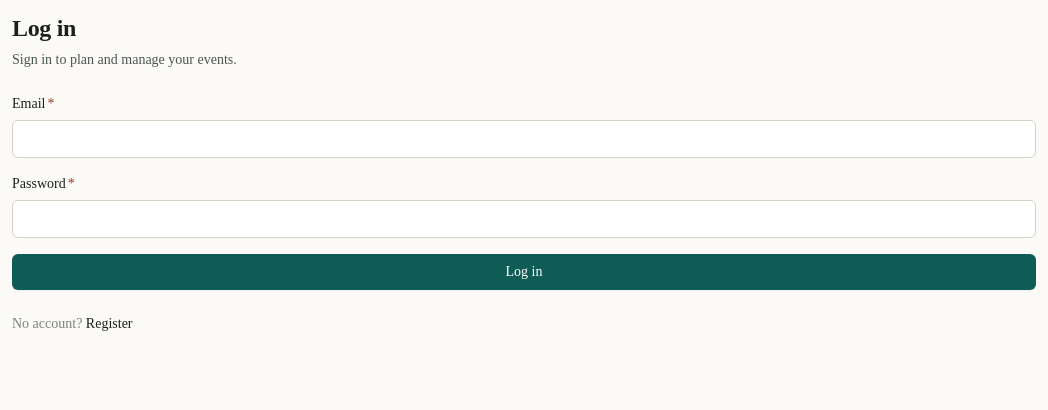
Test: Login page › [SPM-21][AC2] tells a deactivated user to contact an administrator
Step 1. Type "rachel@example.com" into the field labelled "Email*" → (524,139), box [12, 120, 1036, 158]
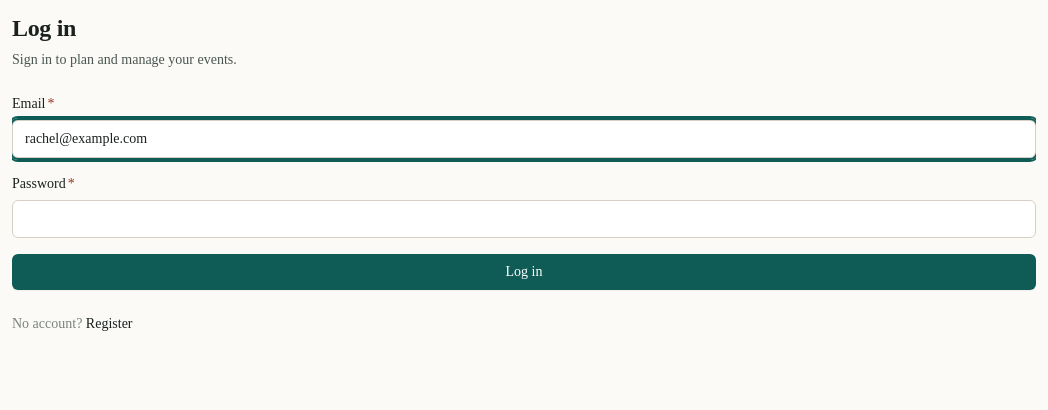
Step 2. Type "long-enough-pw" into the password field labelled "Password*" → (524,219), box [12, 200, 1036, 238]
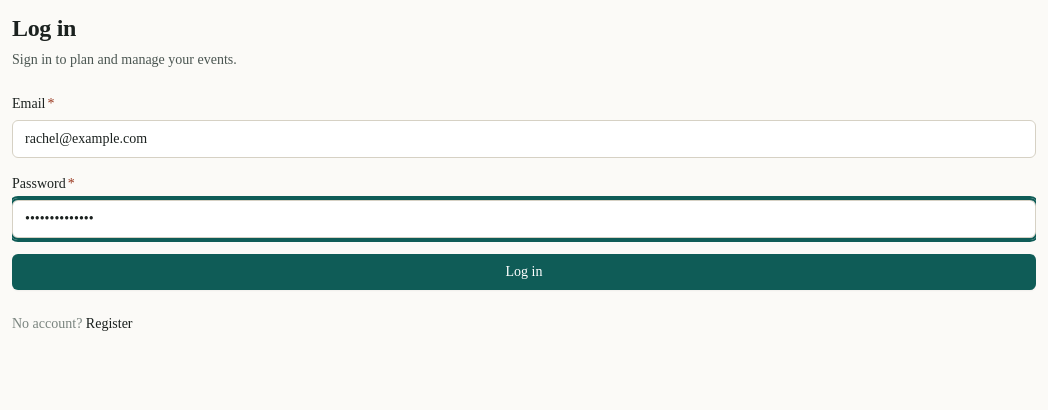
Step 3. Click the button "Log in" → (524,272), box [12, 254, 1036, 290]
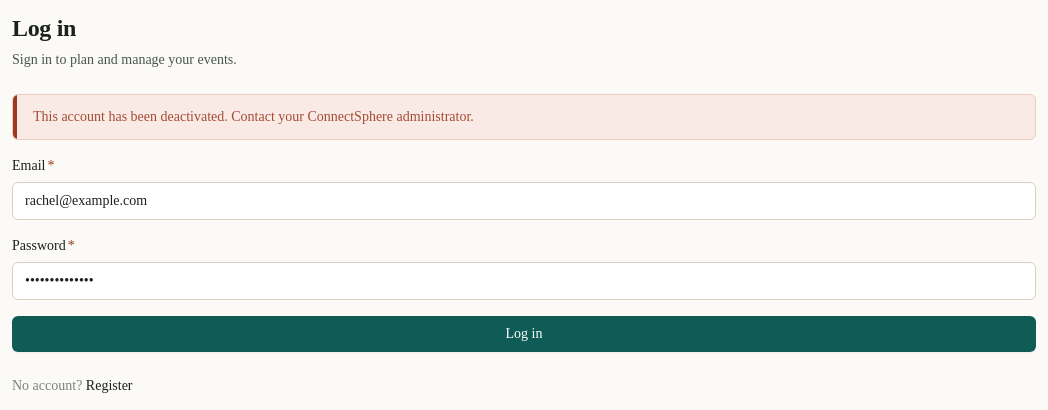
Result: the message shows "This account has been deactivated." at [33, 109, 474, 124]
